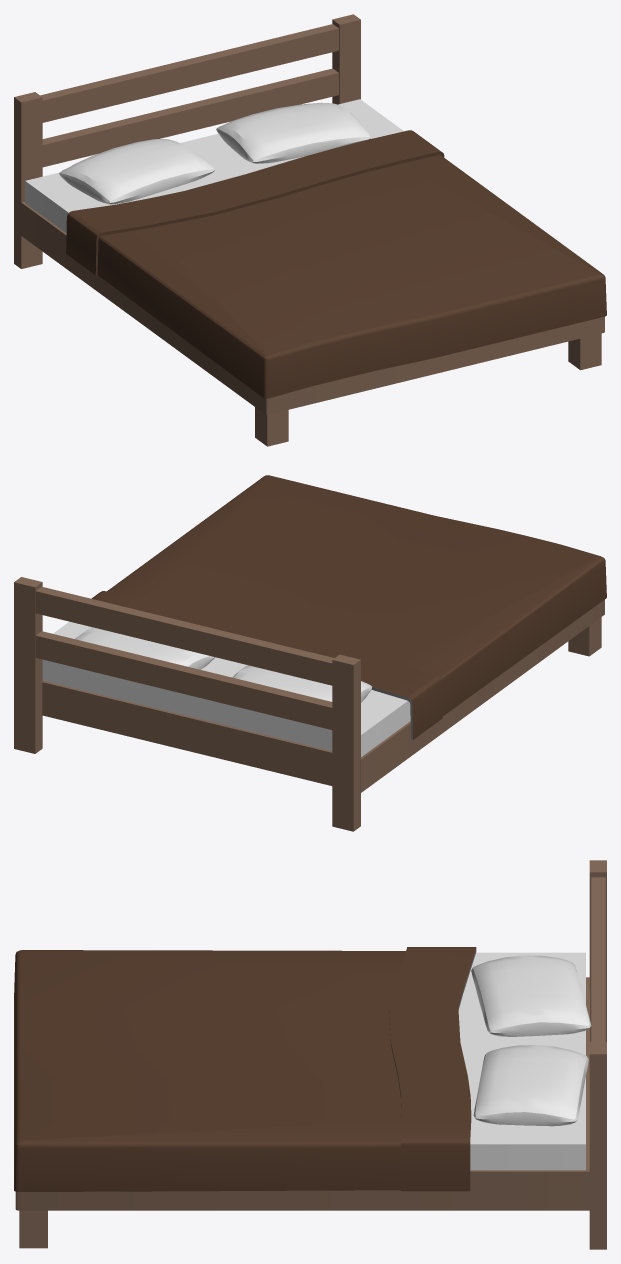
File: Bed2_C2.fbx
3 views of the same model, one above another, from view 1: azimuth 30°, elevation 25°; view 2: azimuth 150°, elevation 25°; view 3: azimuth 270°, elevation 25° (orthographic). The views are drawn at different scales.
Parts seen in each view (by area): view 1: Bed2_C2; view 2: Bed2_C2; view 3: Bed2_C2.
Part boxes in pixels (x1,y1,x2,y2): Bed2_C2: (14, 14, 606, 446); Bed2_C2: (14, 475, 606, 831); Bed2_C2: (14, 860, 606, 1249).
Bounding box in the file's own units: 163 × 75 × 206.
